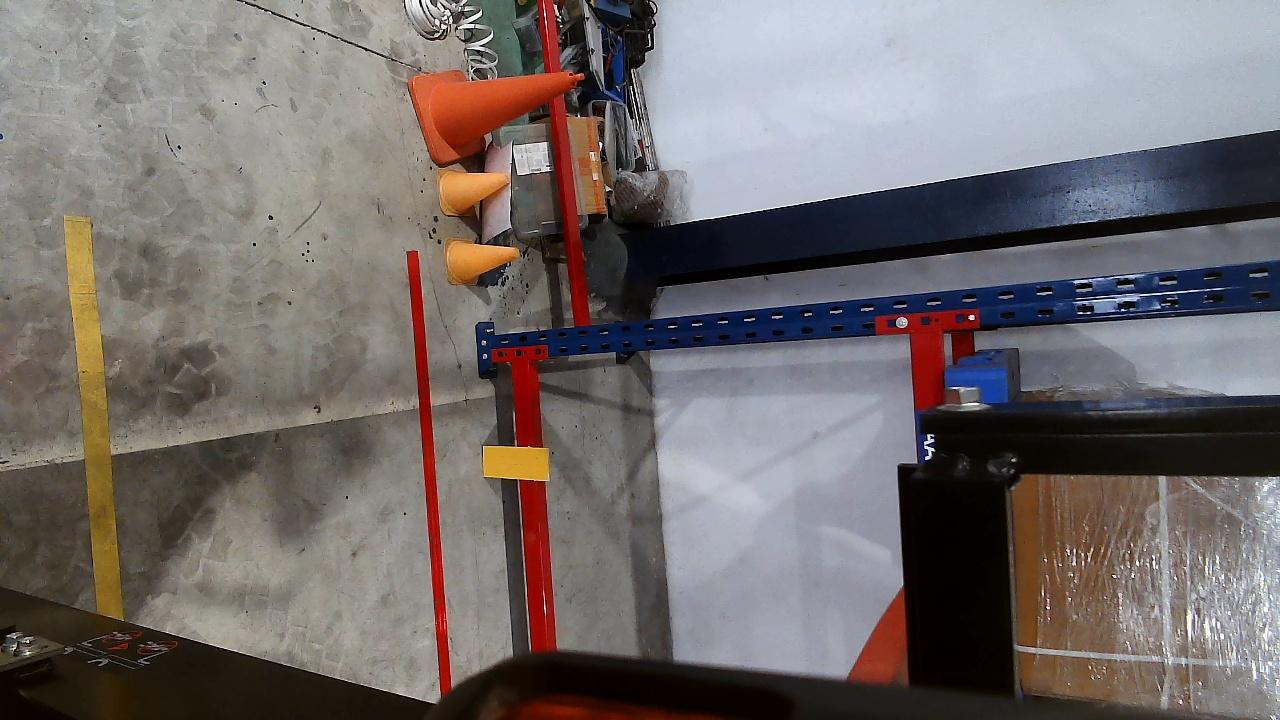h_rack: (509, 358, 556, 651), (910, 330, 944, 461)
orange_strip: (482, 446, 550, 480)
red_line: (408, 251, 454, 691)
yellow_line: (60, 214, 120, 617)
